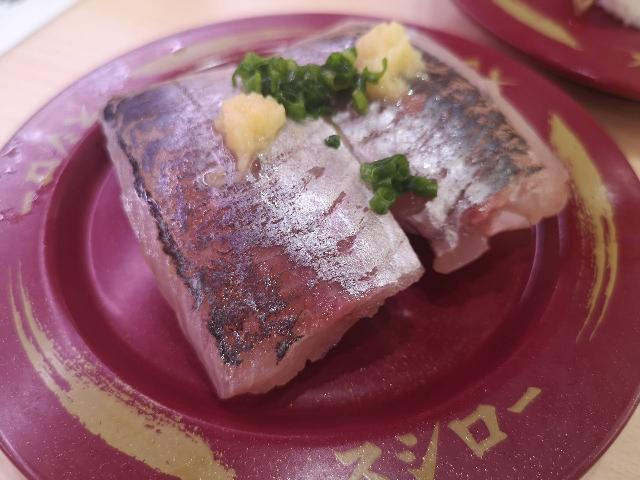janred: (38, 81, 599, 480), (478, 0, 640, 96)
